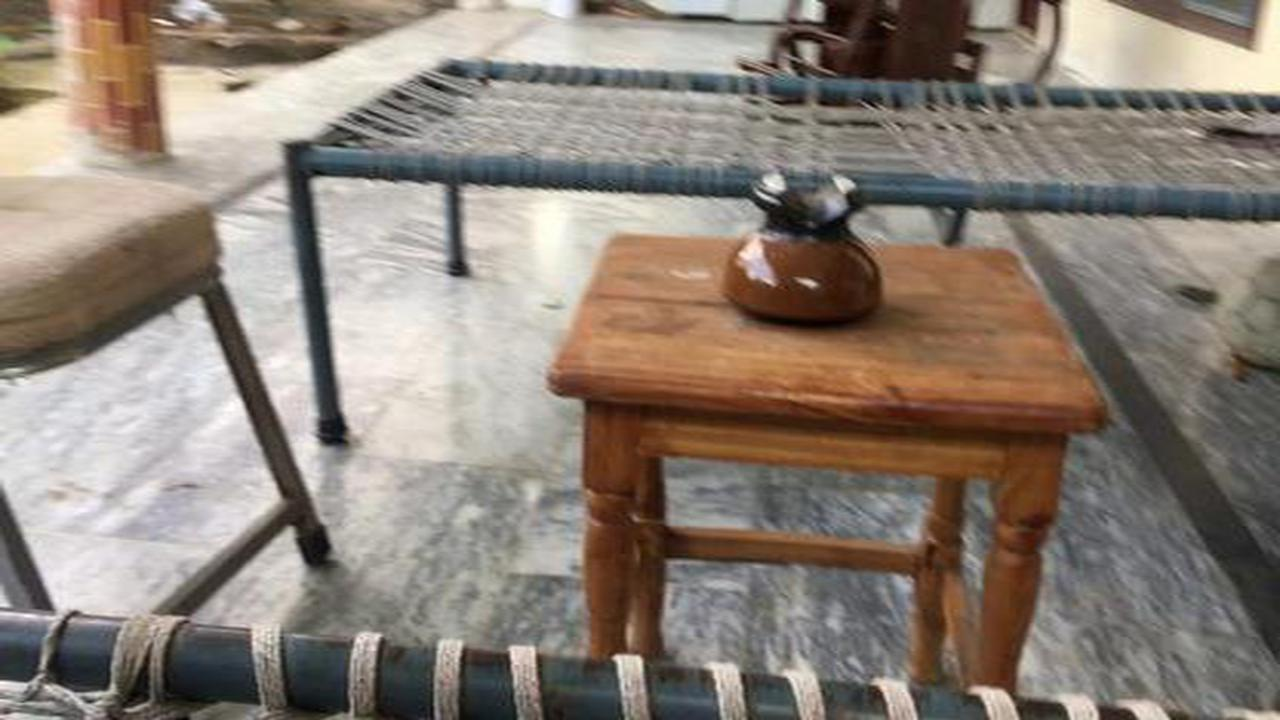insulator_pin: (714, 158, 908, 340)
